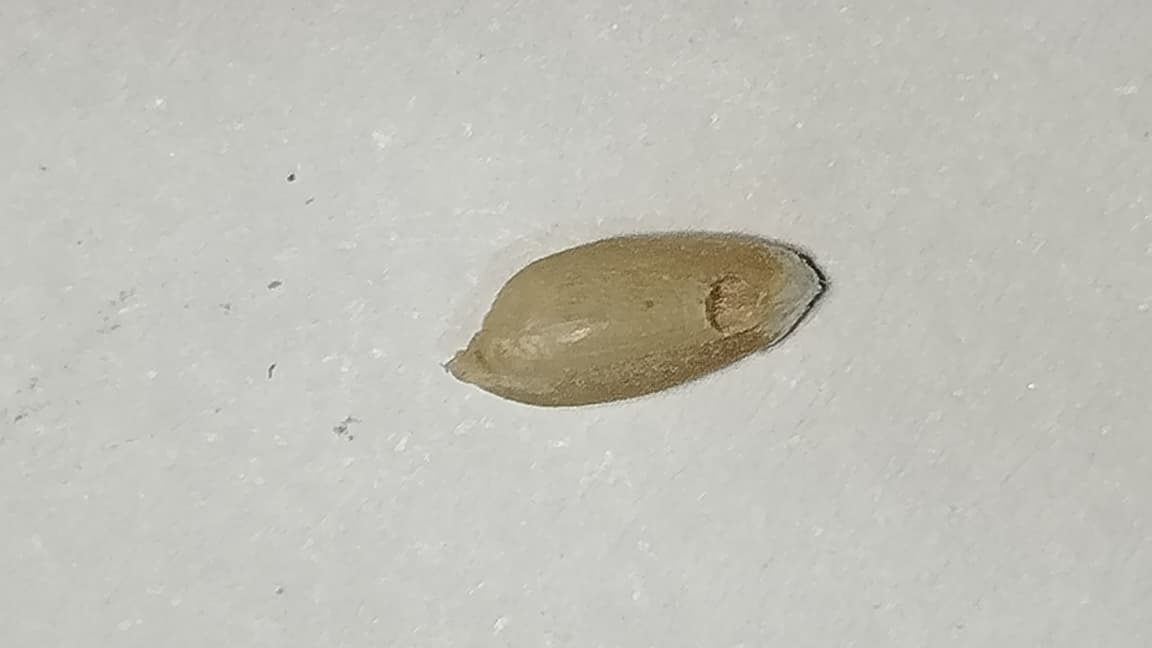damage: (447, 230, 830, 405)
insectdamage: (699, 268, 771, 355)
